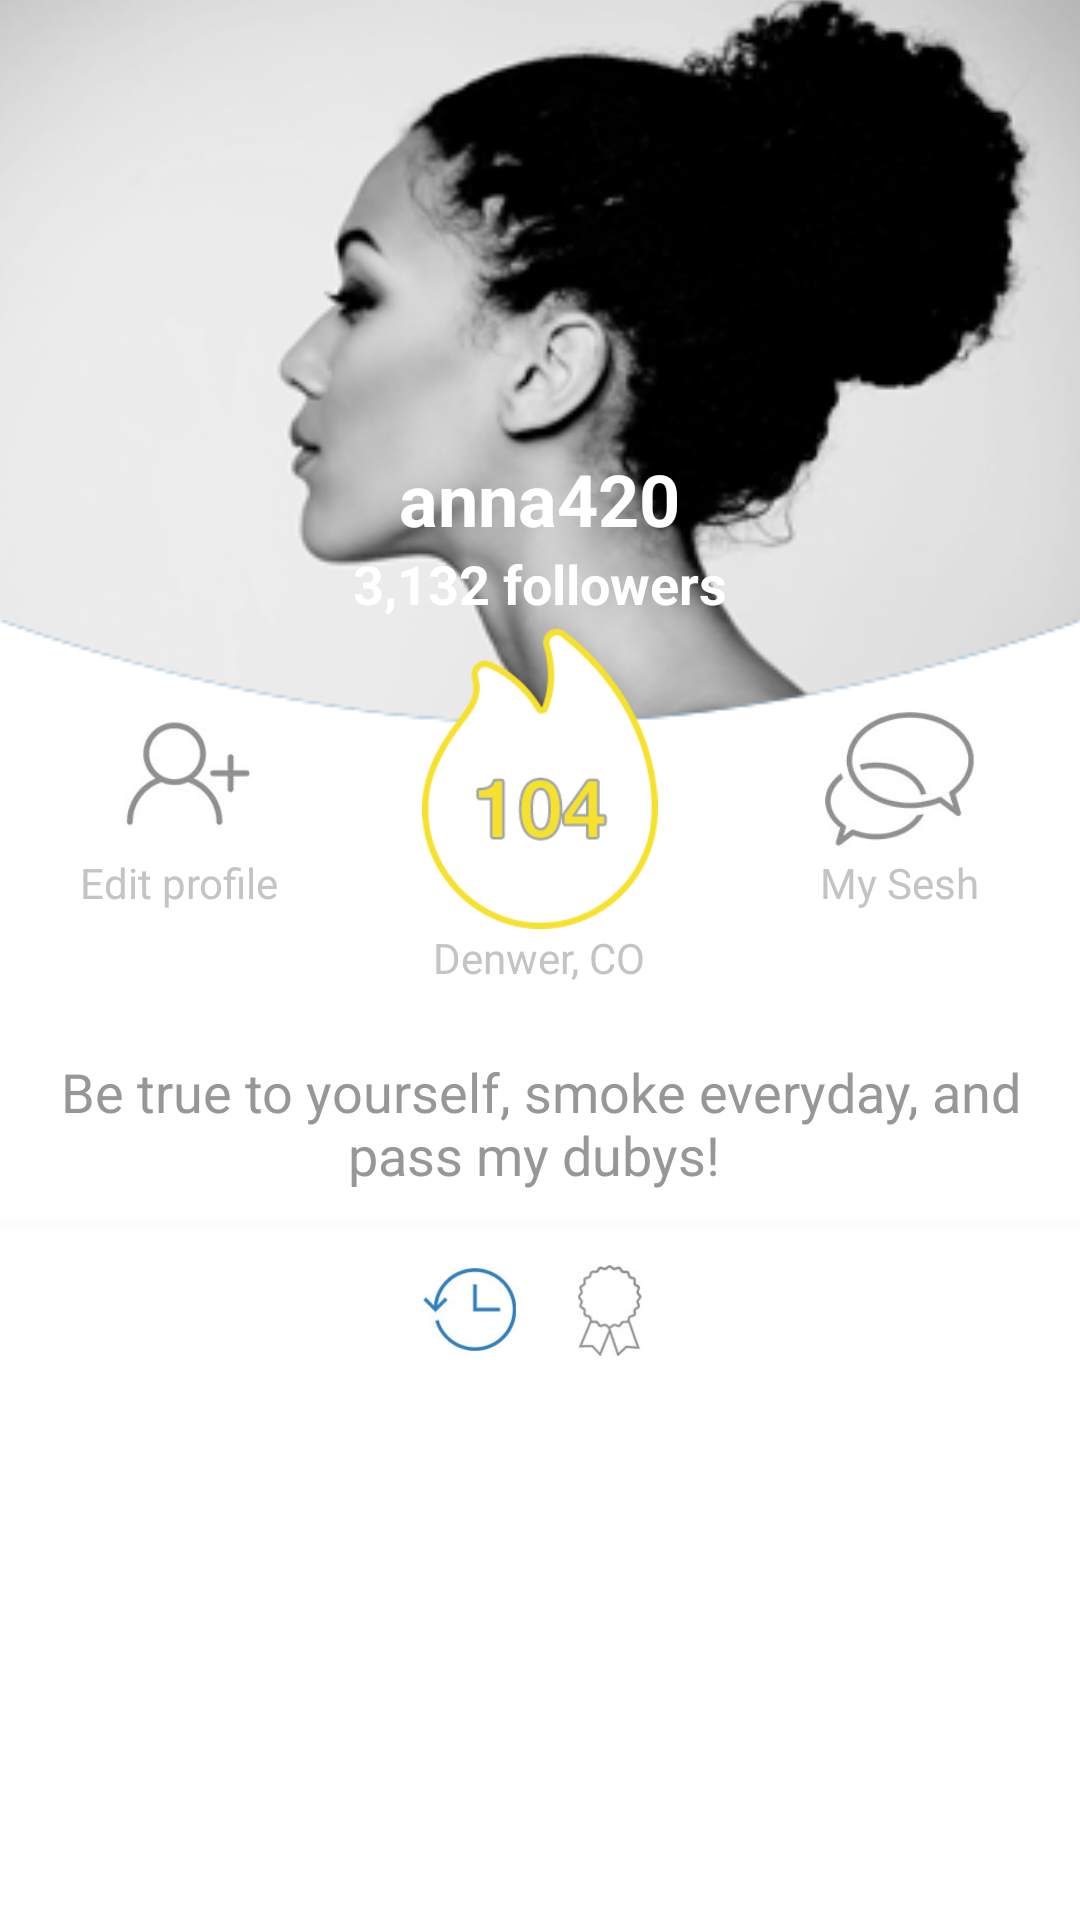

Locate icon controls on the screen. Image size 1080 x 1920, boxes as [x1, y1, x2, y2].
award: [578, 1265, 642, 1356]
chat: [825, 712, 974, 846]
rotate: [423, 1268, 516, 1351]
